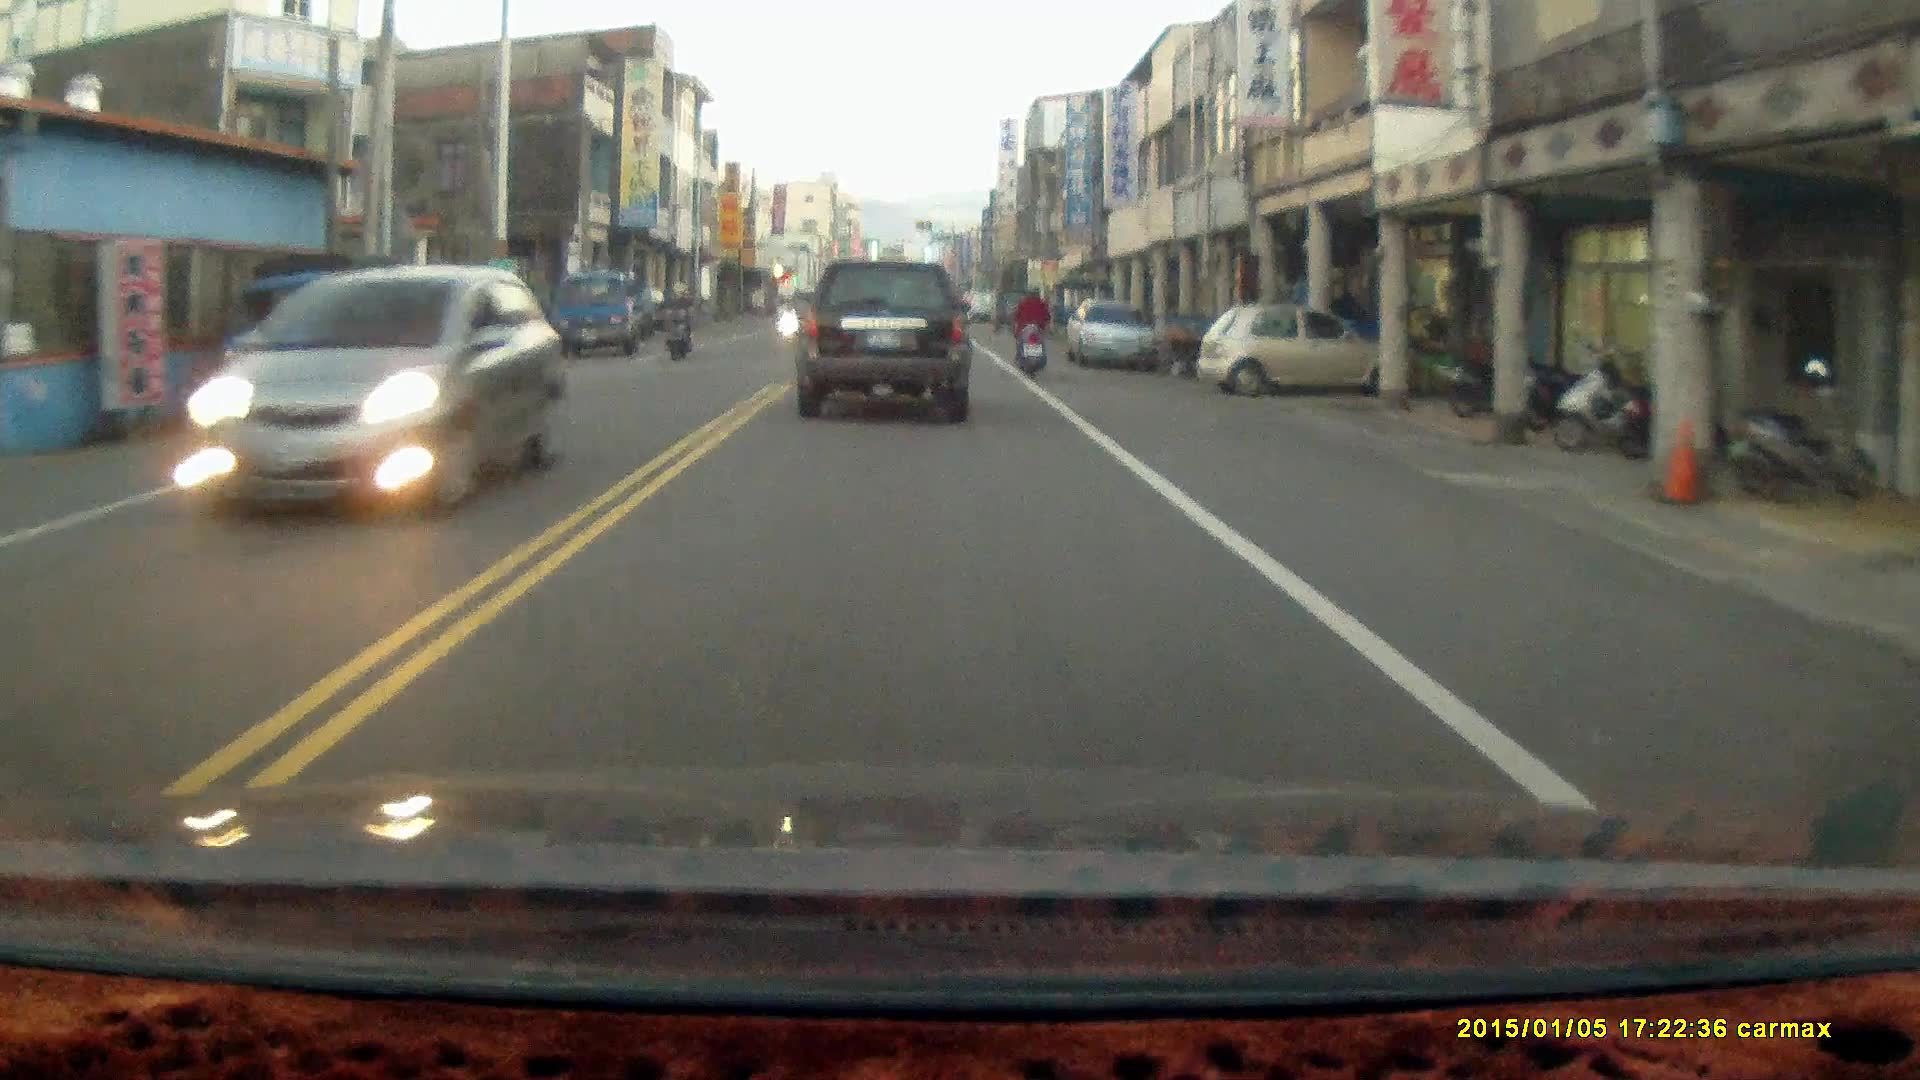rider: (1012, 281, 1051, 378), (658, 278, 690, 356)
vehicle: (173, 263, 572, 526), (793, 252, 974, 423), (1203, 301, 1410, 396), (554, 268, 671, 357), (1067, 300, 1163, 370)
